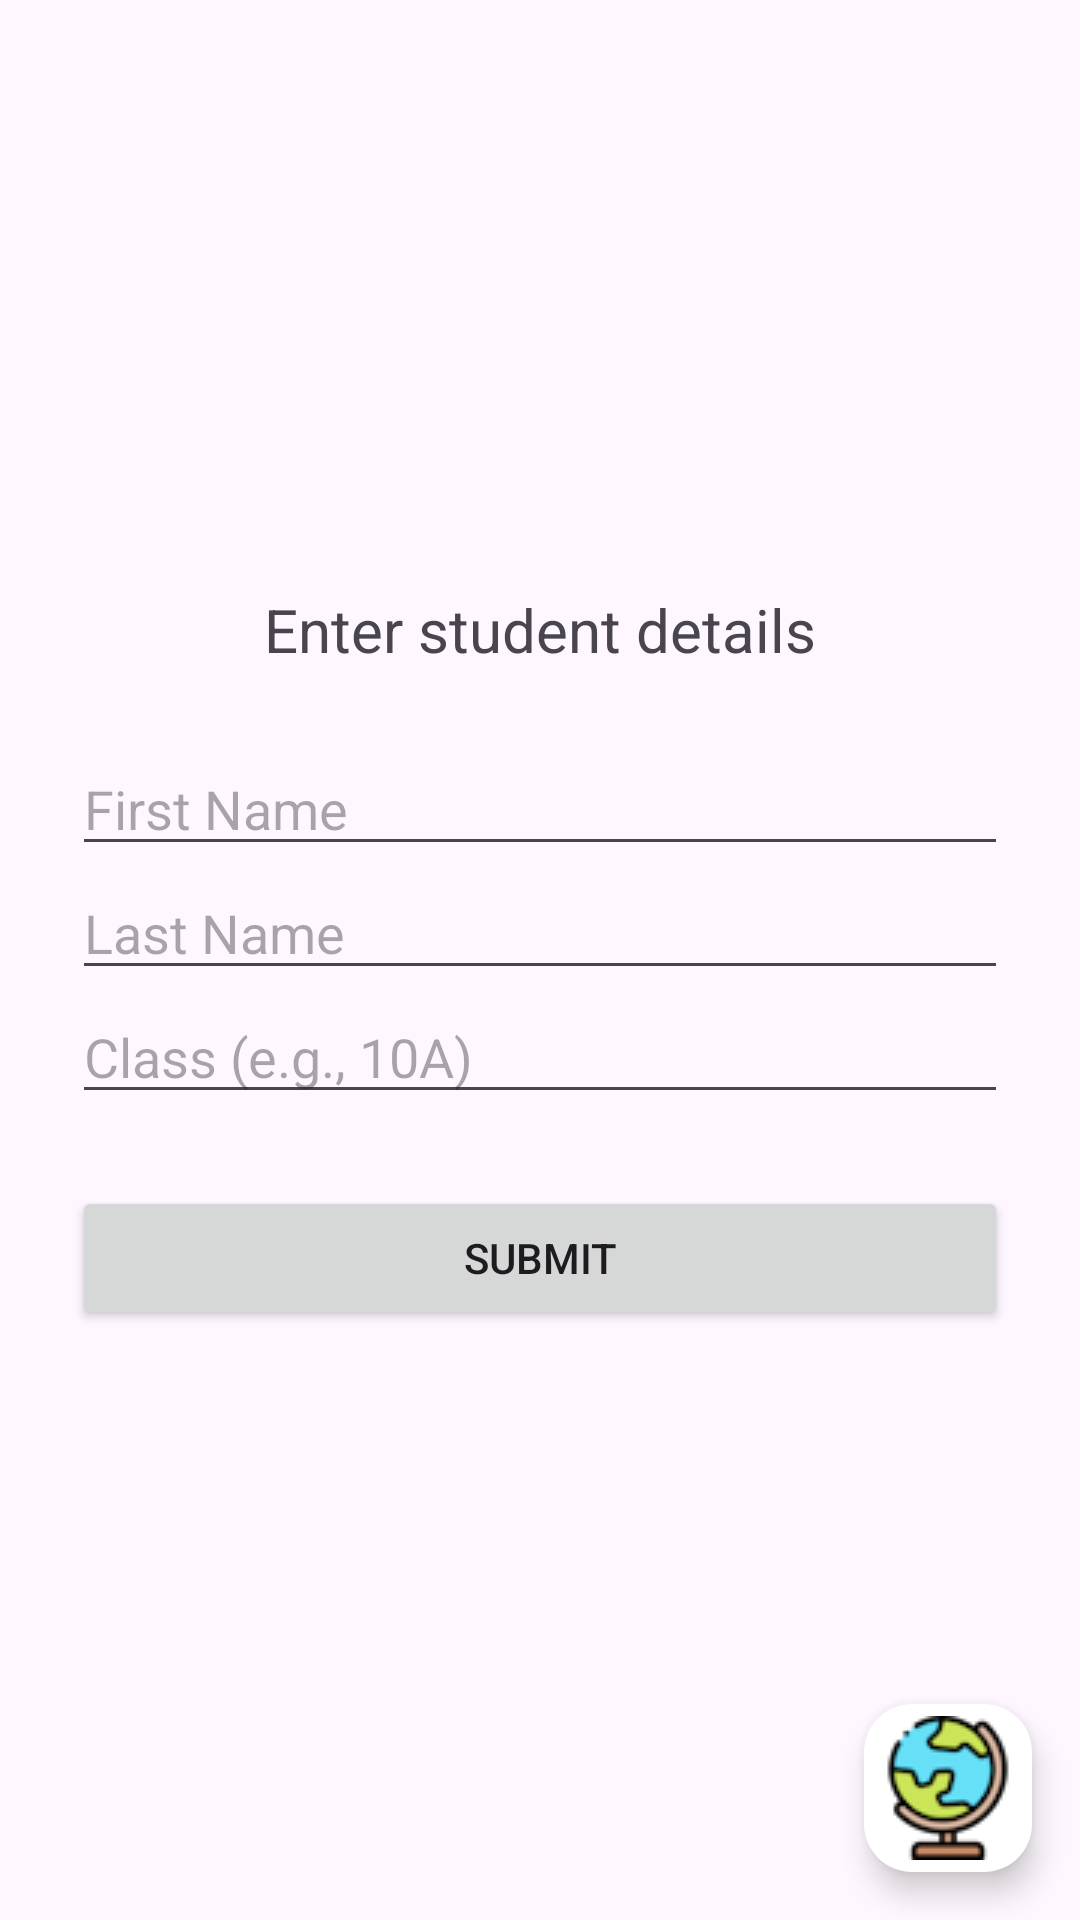

Named icons in this screenshot (1080px×1920px) and their centers, point (x, y):
globus: point (948, 1788)
